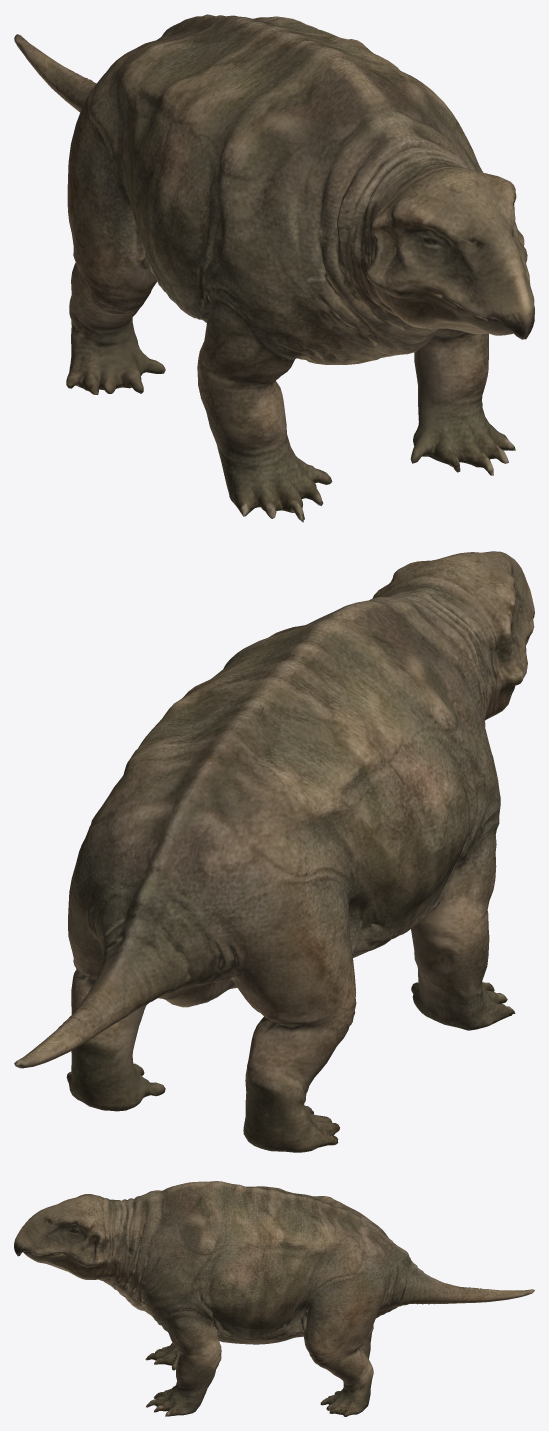
The model's file is ischigualastia.glb.
The picture shows the model from 3 angles, top to bottom: view 1: azimuth 30°, elevation 25°; view 2: azimuth 150°, elevation 25°; view 3: azimuth 270°, elevation 25°; orthographic projection. The views are drawn at different scales.
Visible parts, largest first — view 1: ischigualastia_medio; view 2: ischigualastia_medio; view 3: ischigualastia_medio.
Boxes of the visible parts, bbox=[...] form: ischigualastia_medio: bbox=[14, 14, 534, 522]; ischigualastia_medio: bbox=[14, 551, 534, 1152]; ischigualastia_medio: bbox=[14, 1181, 534, 1416].
Size of the model in its own units: 1.14 by 1.51 by 3.5.
1 material, 1 textured.
